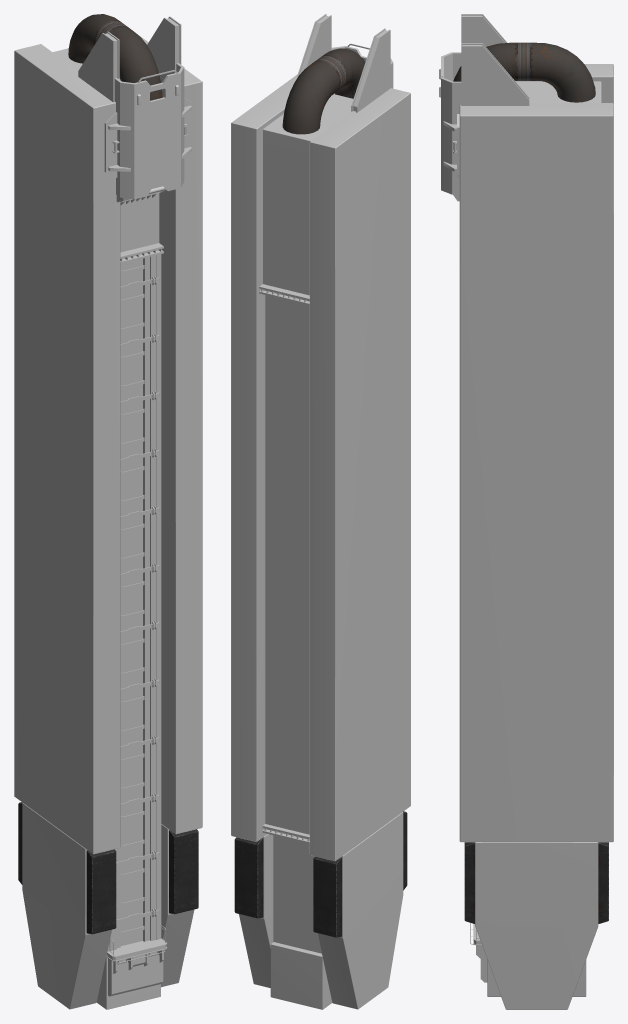
Rendered from Wall_Large_04.fbx.
3 renders of one model, left to right at view 1: azimuth 30°, elevation 25°; view 2: azimuth 150°, elevation 25°; view 3: azimuth 270°, elevation 25°, orthographic. The views are drawn at different scales.
Visible parts, largest first — view 1: Concrete_Block, Element1, Element2, Element3, Pipe1; view 2: Concrete_Block, Element3, Pipe1, Element2, Element1; view 3: Concrete_Block, Element2, Pipe1, Element3, Element1.
Boxes of the visible parts, x1,y1,x2,y2 form: Concrete_Block: (14, 33, 202, 1009); Element1: (106, 243, 167, 996); Element2: (78, 16, 192, 204); Element3: (18, 802, 198, 934); Pipe1: (68, 14, 162, 100); Concrete_Block: (231, 74, 410, 1009); Element3: (234, 811, 407, 937); Pipe1: (282, 48, 365, 134); Element2: (296, 14, 393, 112); Element1: (259, 284, 309, 843); Concrete_Block: (459, 64, 613, 1009); Element2: (439, 14, 529, 201); Pipe1: (453, 42, 595, 102); Element3: (464, 842, 608, 923); Element1: (470, 923, 487, 982).
Bounding box in the file's own units: 400 × 3413 × 567.
